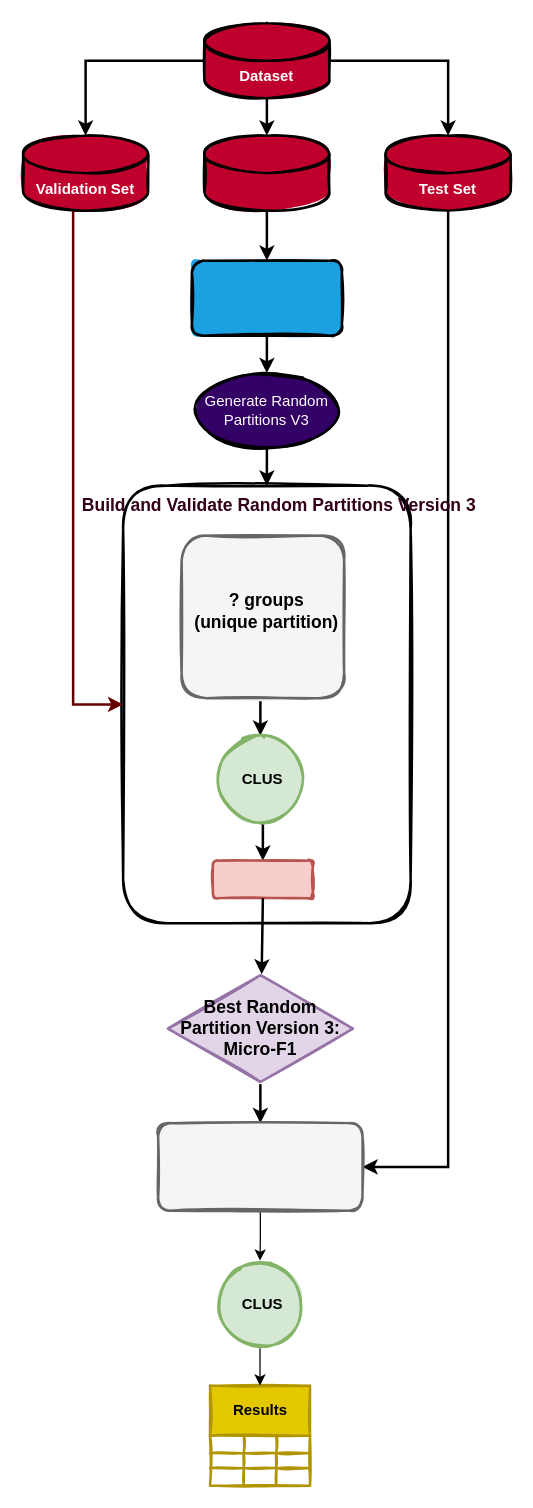
Some shapes in this 533 by 1508 pixel diagram are drawn without their labels. Here are the shapes that lost their labels. From the top down, the centre of each, then its label:
At (x=266, y=172): "Train Set".
At (x=266, y=297): "Label Space".
At (x=262, y=879): "Performance".
At (x=259, y=1166): "Build and Test the best random partition version 3".
